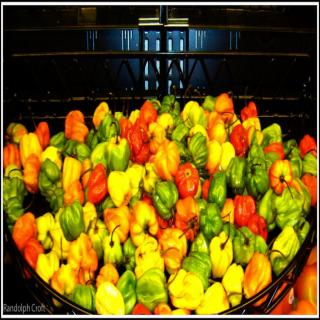Bell pepper: (3, 86, 319, 317), (101, 140, 130, 167)
